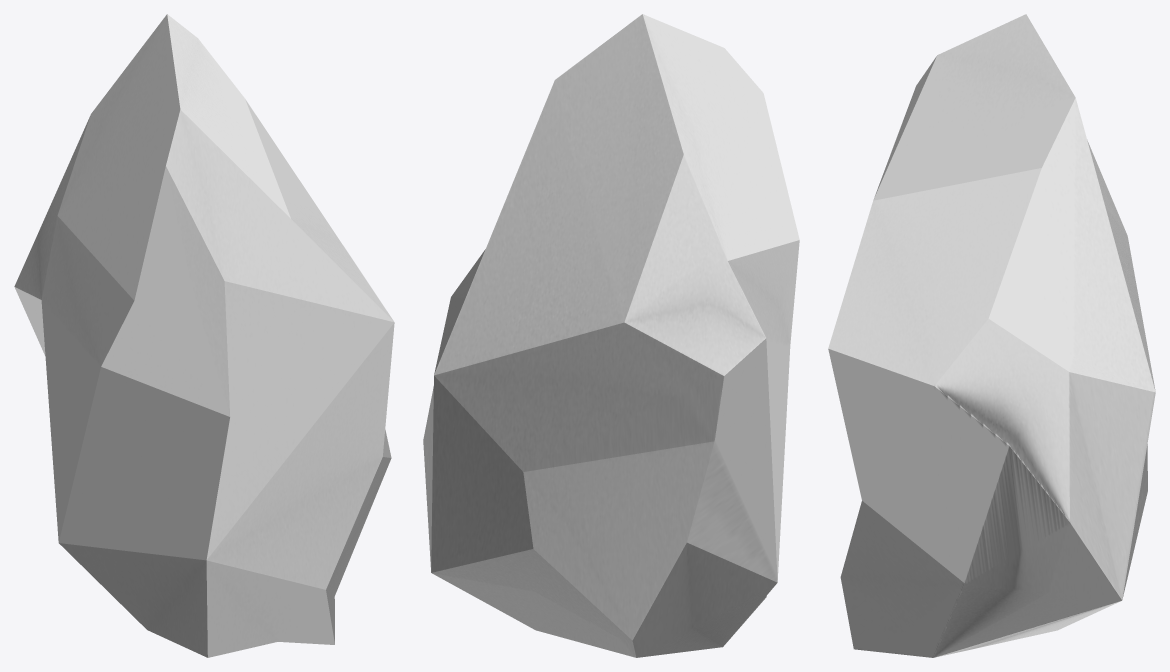
Rendered from Piedra1.fbx.
3 renders of one model, left to right at view 1: azimuth 30°, elevation 25°; view 2: azimuth 150°, elevation 25°; view 3: azimuth 270°, elevation 25°, orthographic. The views are drawn at different scales.
Visible parts, largest first — view 1: Piedra1; view 2: Piedra1; view 3: Piedra1.
Part boxes in pixels (x1,y1,x2,y2): Piedra1: (14,14,394,657); Piedra1: (423,14,799,657); Piedra1: (828,14,1155,657).
Bounding box in the file's own units: 156 × 280 × 140.
1 material, 1 textured.
